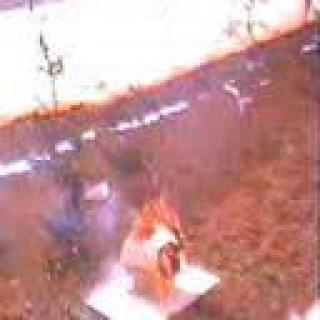fire: (118, 179, 188, 305)
